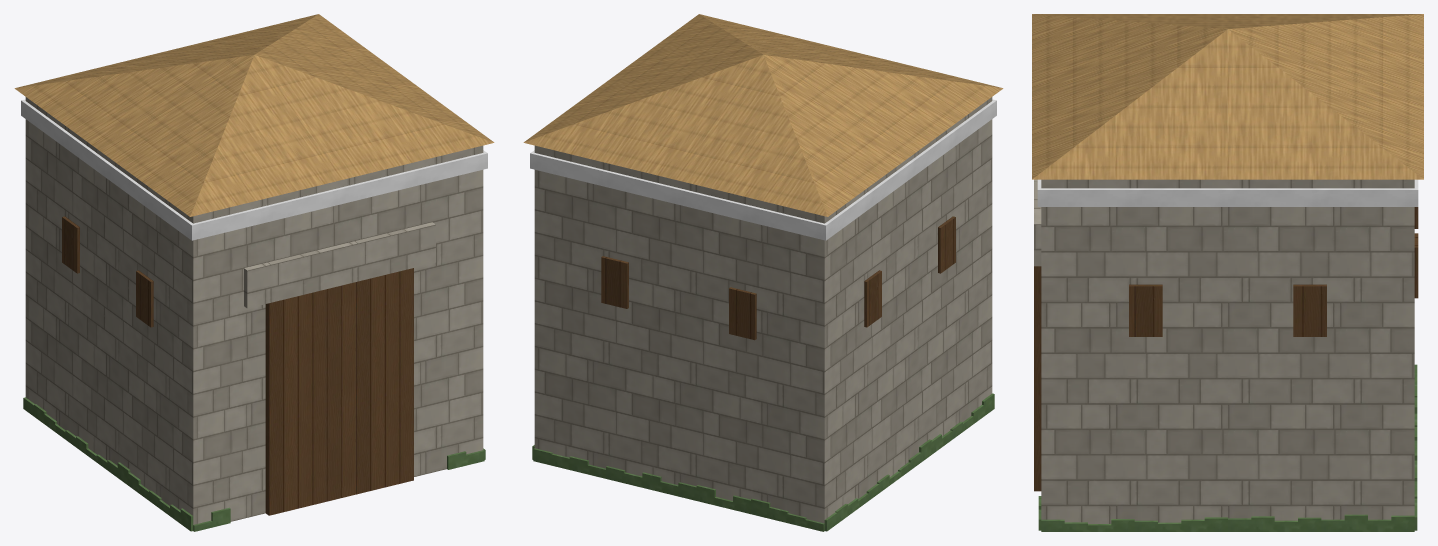
The model's file is keep.t0.glb.
The picture shows the model from 3 angles, left to right: view 1: azimuth 30°, elevation 25°; view 2: azimuth 150°, elevation 25°; view 3: azimuth 270°, elevation 25°; orthographic projection. The views are drawn at different scales.
Parts seen in each view (by area): view 1: castle.keep.t0; view 2: castle.keep.t0; view 3: castle.keep.t0.
Part boxes in pixels (<box>): castle.keep.t0: <box>14,14,494,531</box>; castle.keep.t0: <box>523,14,1003,531</box>; castle.keep.t0: <box>1032,14,1423,531</box>.
Bounding box in the file's own units: 4.2 × 5 × 4.2.
5 materials, 5 textured.
